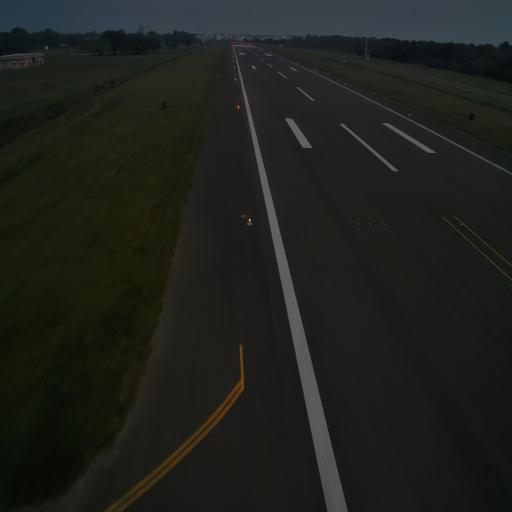off: (368, 218, 374, 231), (355, 219, 360, 228), (381, 220, 386, 228), (459, 221, 463, 228), (311, 140, 314, 146), (319, 140, 322, 146), (408, 145, 411, 149), (415, 146, 418, 150), (403, 173, 405, 177)
on: (247, 215, 253, 227), (236, 101, 240, 112), (408, 112, 411, 118)
